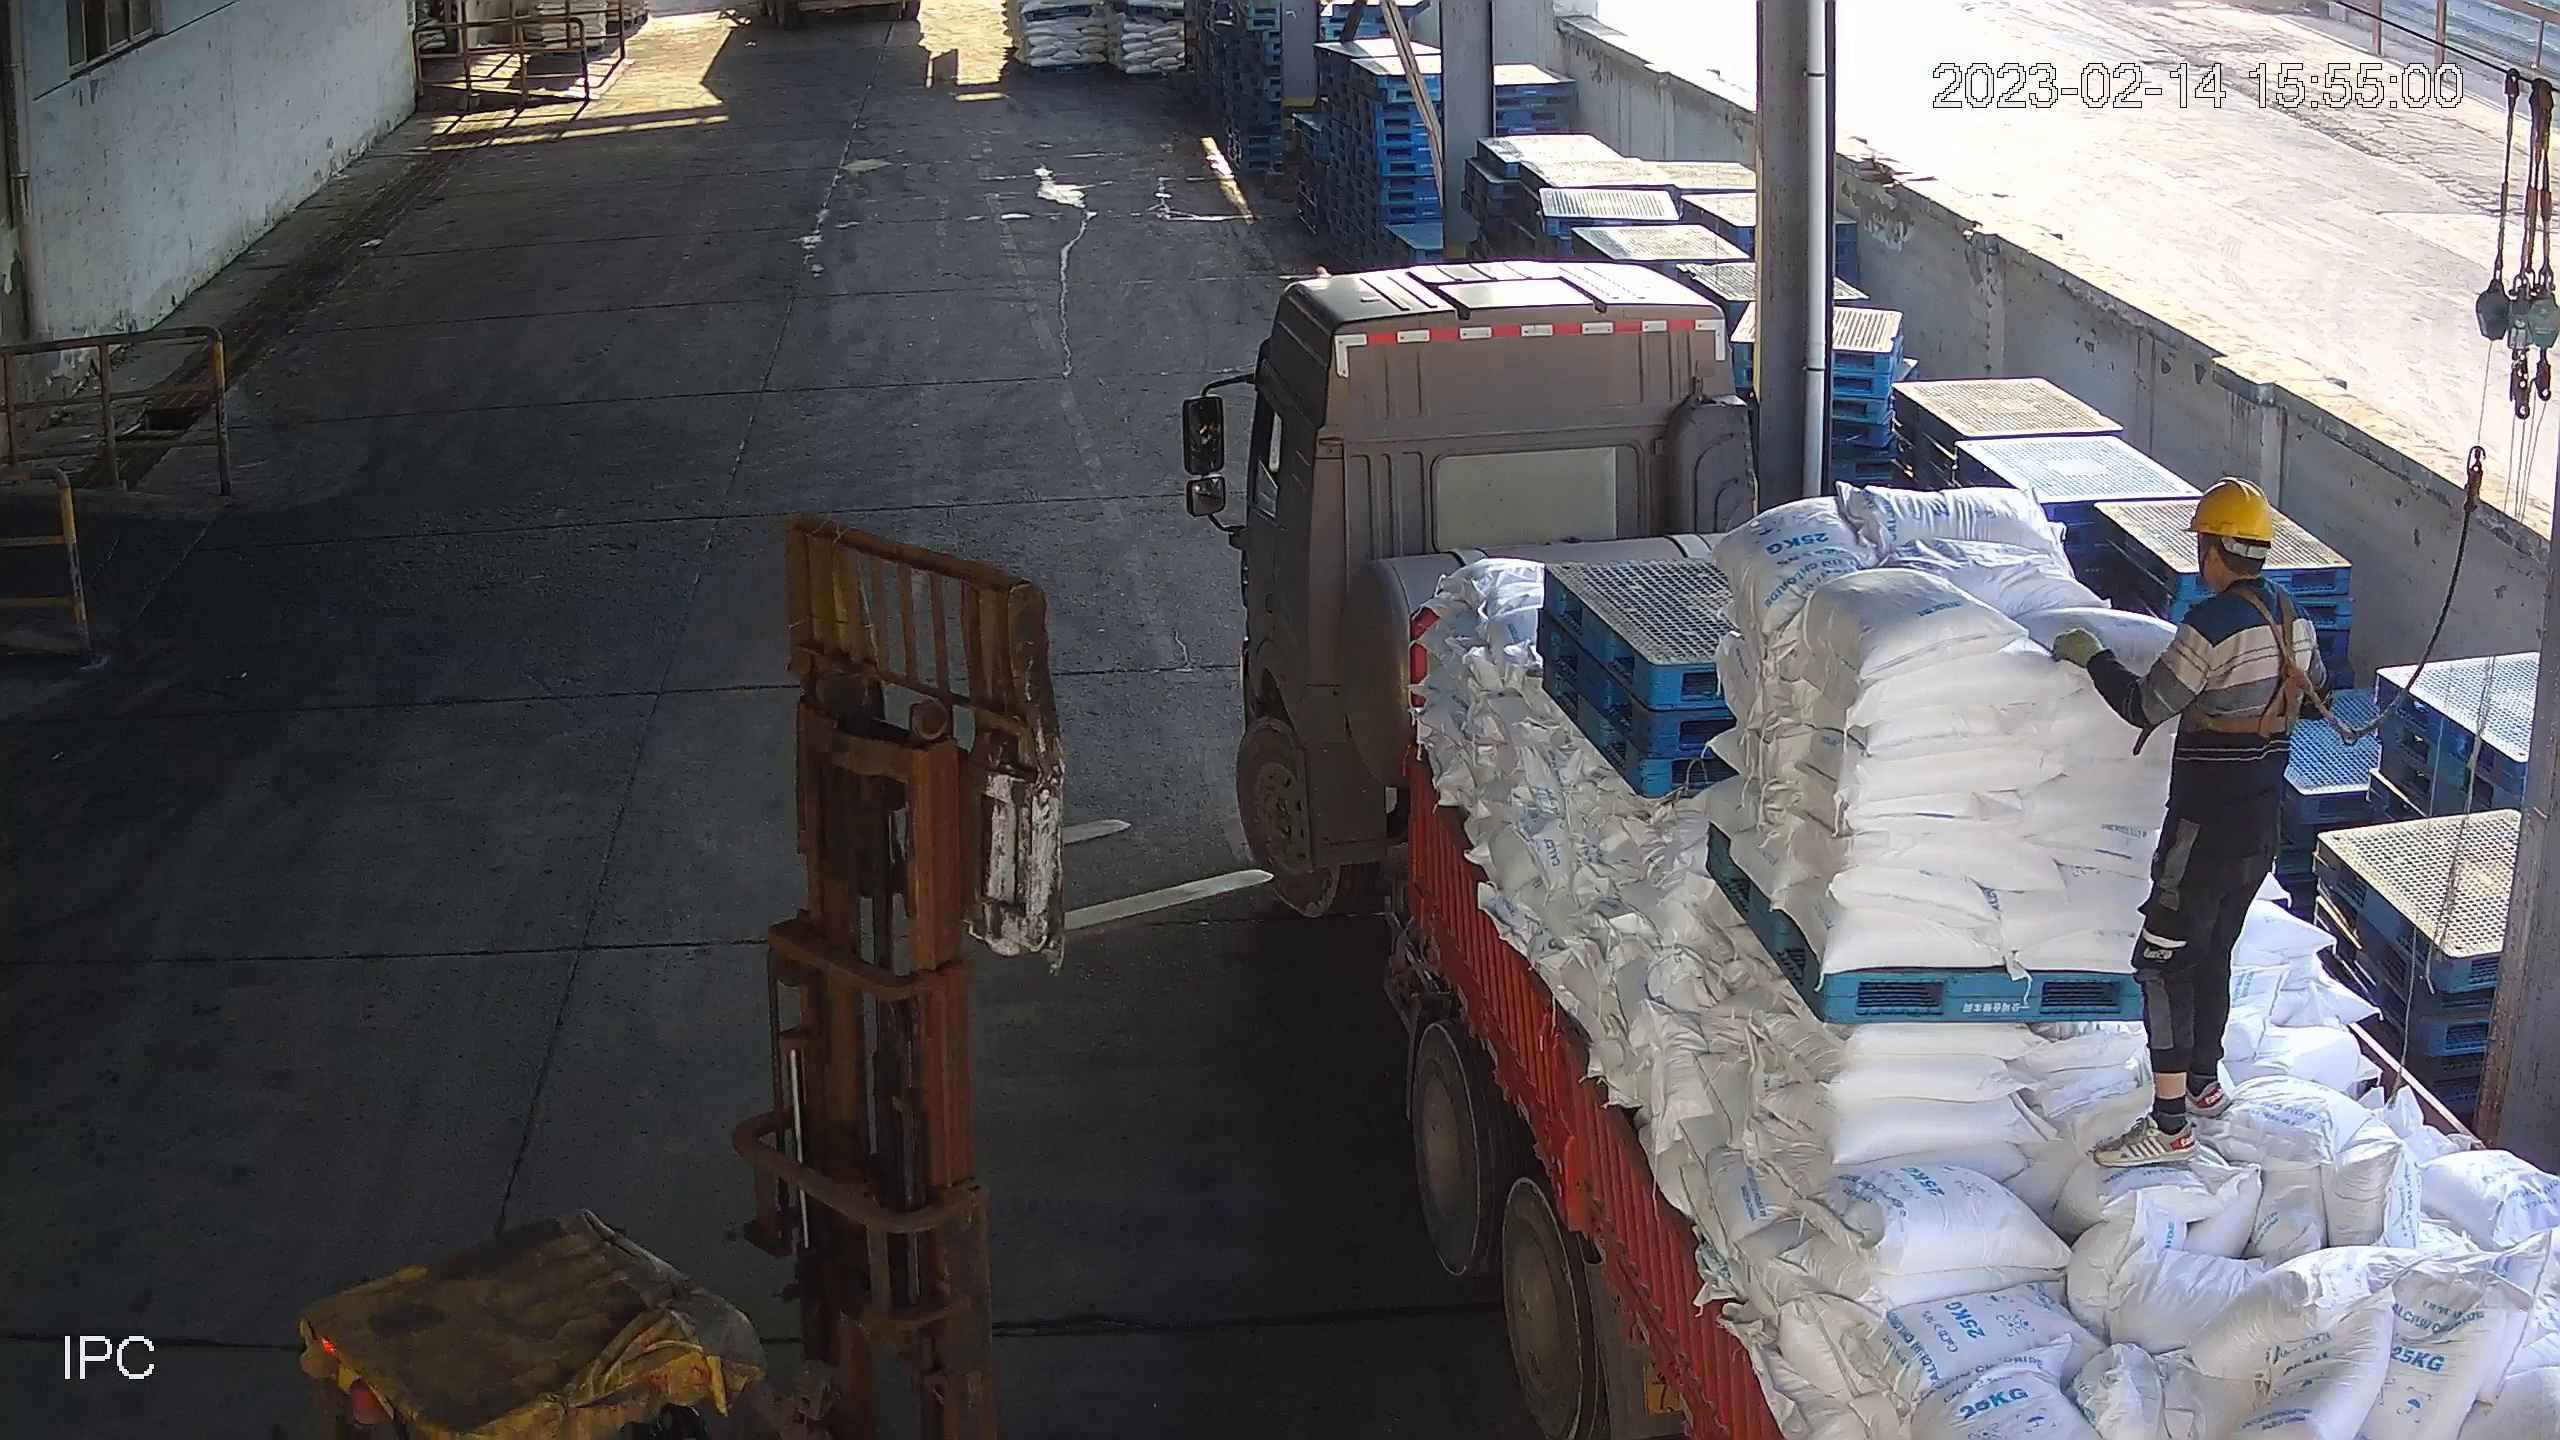belt: (2204, 588, 2342, 727)
head: (2181, 481, 2316, 653)
helmet: (2193, 478, 2281, 541)
people: (2053, 479, 2330, 1172)
truck: (1177, 253, 2560, 1440)
